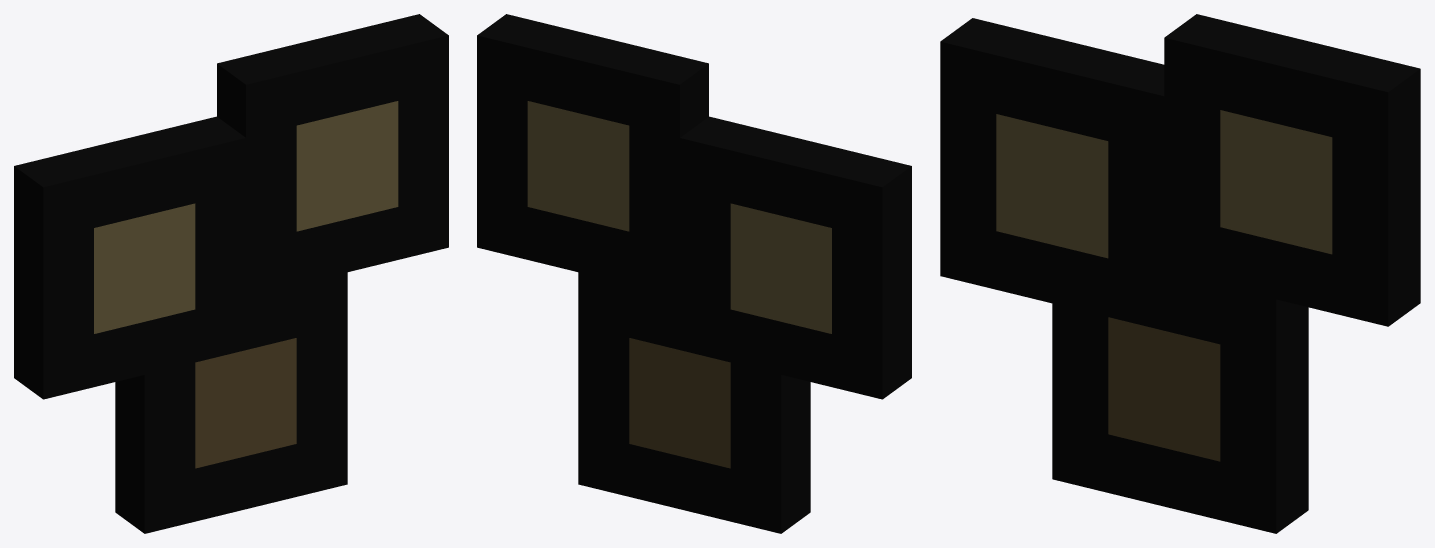
Rendered from Watermelon Seeds.glb.
3 renders of one model, left to right at view 1: azimuth 30°, elevation 25°; view 2: azimuth 150°, elevation 25°; view 3: azimuth 330°, elevation 25°, orthographic. The views are drawn at different scales.
Parts seen in each view (by area): view 1: generated(Clone); view 2: generated(Clone); view 3: generated(Clone).
Boxes of the visible parts, left/top/right/bottom form: generated(Clone): left=14, top=14, right=448, bottom=533; generated(Clone): left=477, top=14, right=911, bottom=533; generated(Clone): left=940, top=14, right=1420, bottom=533.
Bounding box in the file's own units: 8 × 8 × 1.
1 material, 1 textured.
